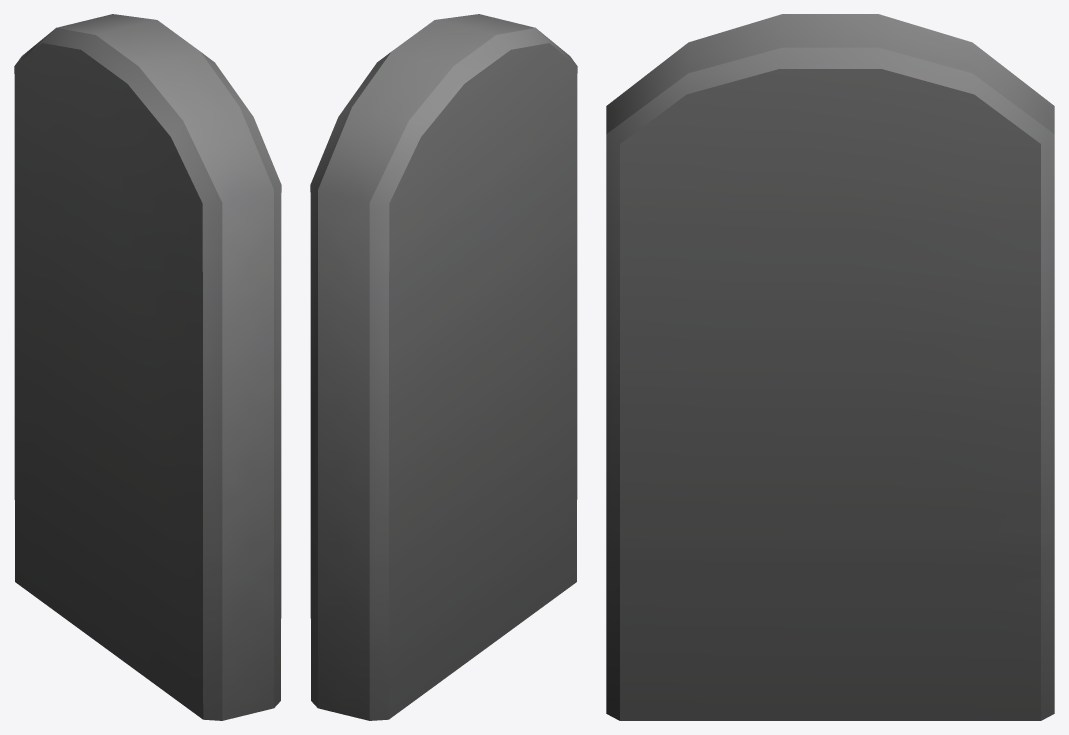
File: Tombstone_4.glb
3 views of the same model, side by side, from view 1: azimuth 30°, elevation 25°; view 2: azimuth 150°, elevation 25°; view 3: azimuth 270°, elevation 25° (orthographic). The views are drawn at different scales.
Visible parts, largest first — view 1: Tombstone_4; view 2: Tombstone_4; view 3: Tombstone_4.
Part boxes in pixels (bbox=[...]): Tombstone_4: bbox=[14, 14, 281, 720]; Tombstone_4: bbox=[310, 14, 577, 720]; Tombstone_4: bbox=[606, 14, 1054, 720].
Bounding box in the file's own units: 0.1528 × 0.9987 × 0.6064.
1 material, 1 textured.
